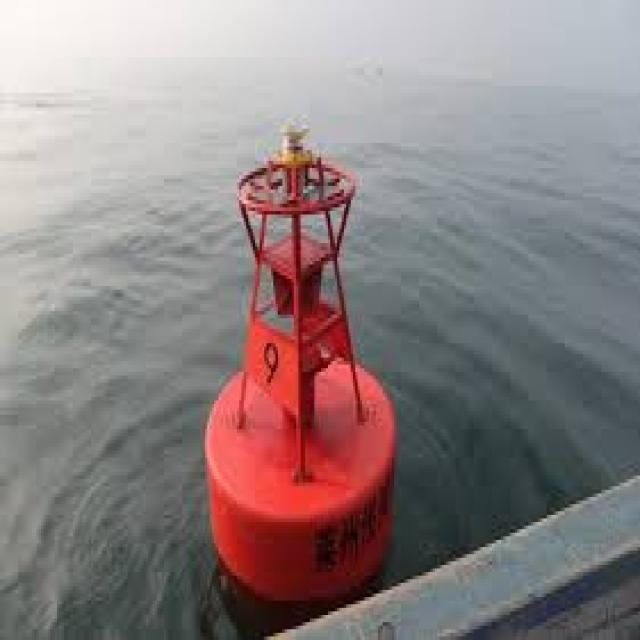2.1 lateral mark -P-: (186, 89, 407, 607)
